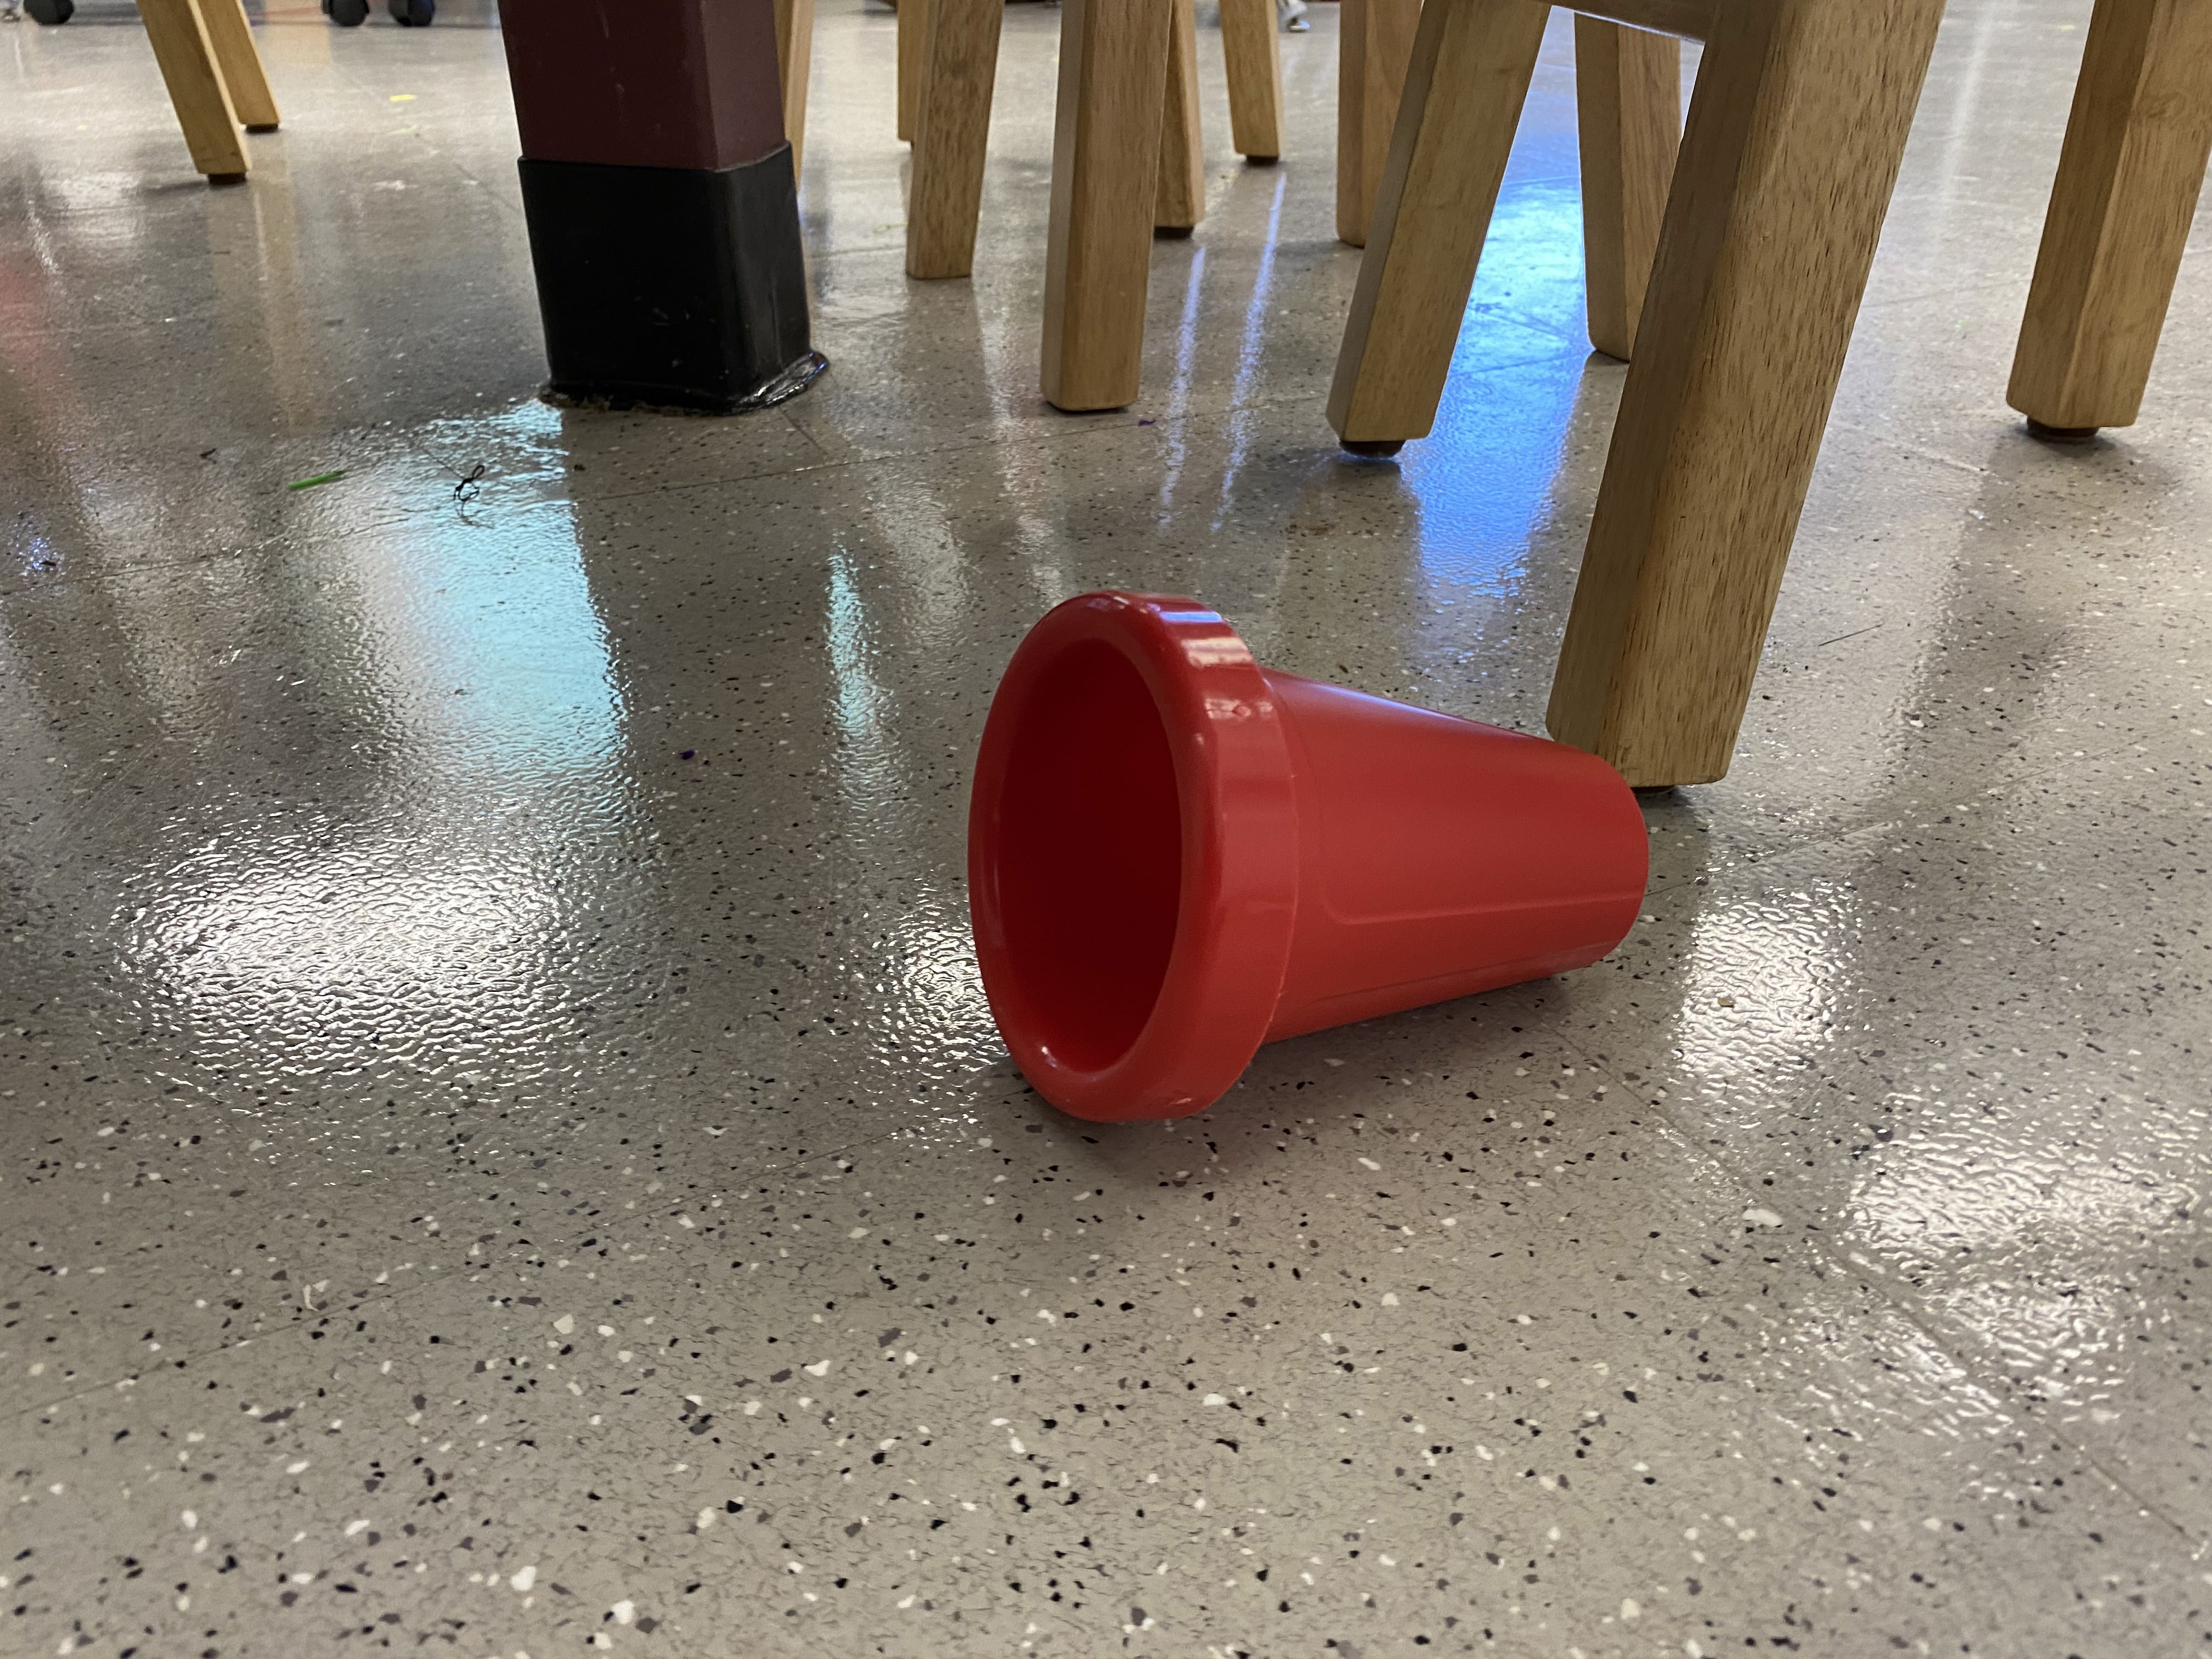redCone: (941, 573, 1670, 1136)
